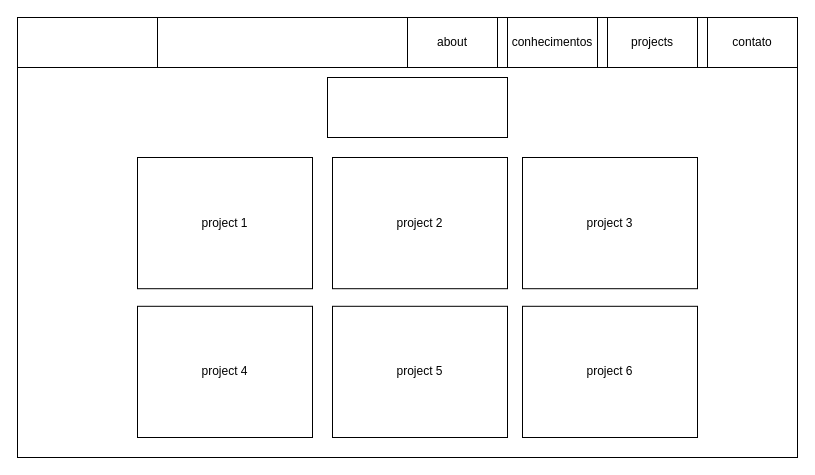
The diagram is 815 pixels wide and 475 high, and some of its shapes have lost their labels. Here are the shapes that lost their labels. From the top down, the centre of each, then its label:
At [87,42]: "Miguel Paganini".
At [417,107]: "projetos".
